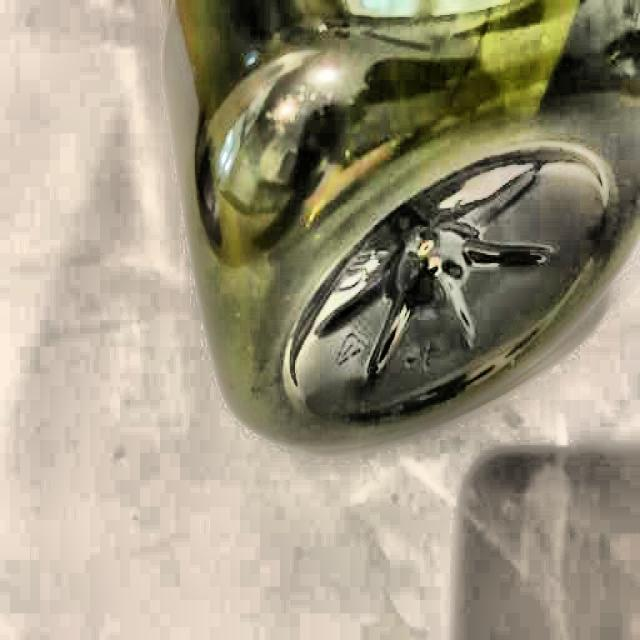plastic: (162, 4, 632, 417)
